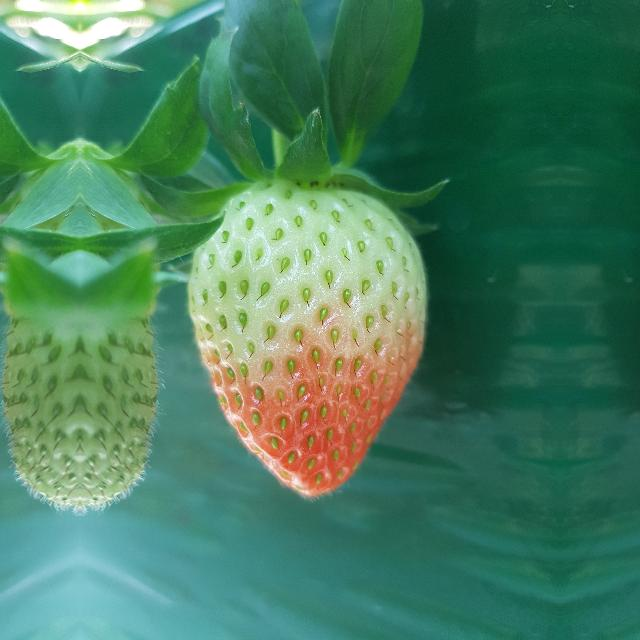Health_25: (80, 300, 164, 514), (0, 299, 80, 514)
Health_50: (184, 184, 428, 498)
